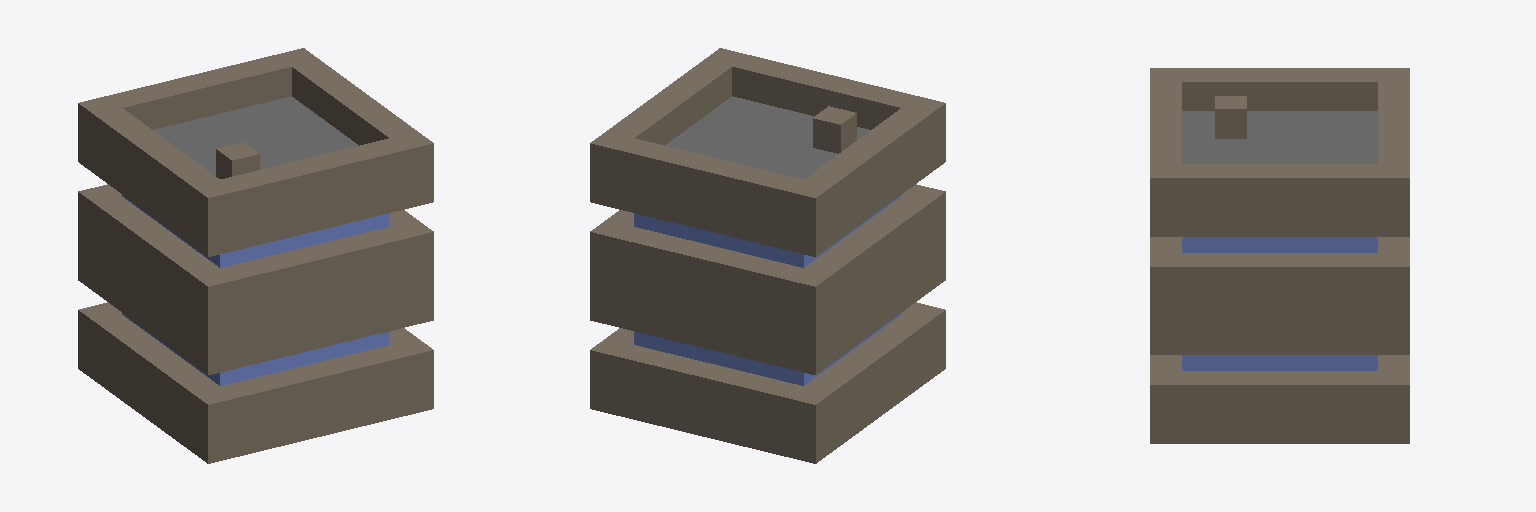
The picture shows the model from 3 angles: view 1: azimuth 30°, elevation 25°; view 2: azimuth 150°, elevation 25°; view 3: azimuth 270°, elevation 25°; orthographic projection.
Parts seen in each view (by area): view 1: apartment_piece; view 2: apartment_piece; view 3: apartment_piece.
Part boxes in pixels (bbox=[...]): apartment_piece: bbox=[78, 48, 433, 463]; apartment_piece: bbox=[590, 48, 945, 463]; apartment_piece: bbox=[1150, 68, 1409, 443].
Size of the model in its own units: 8 by 9 by 8.
Materials: 1 (1 with a texture image).